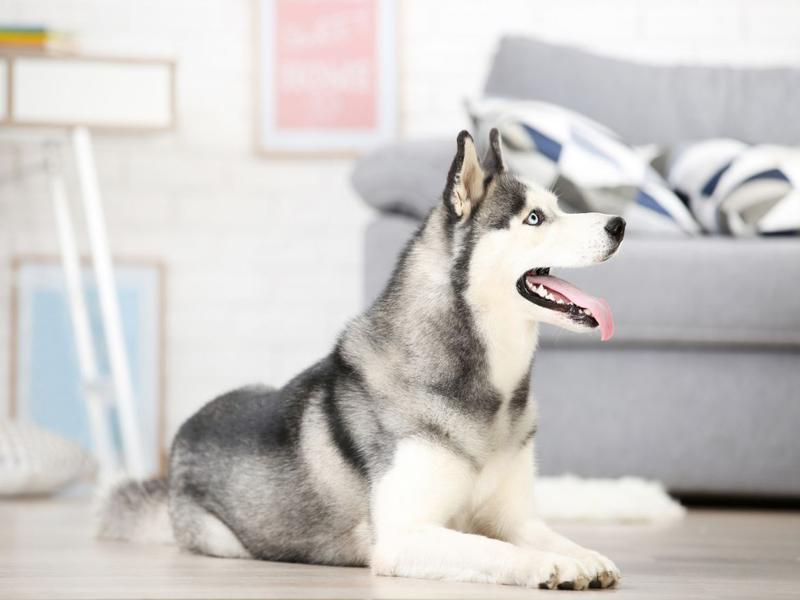dog_down: (104, 127, 629, 595)
